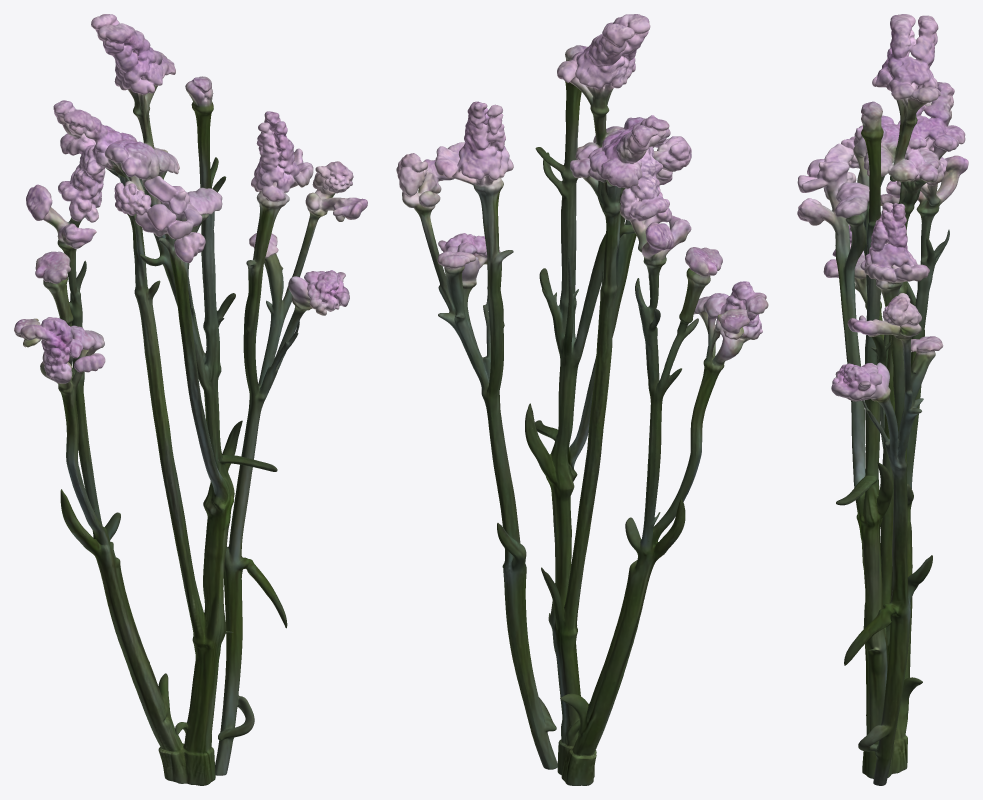
File: purple_pellers_pbr-v2.glb
3 views of the same model, side by side, from view 1: azimuth 30°, elevation 25°; view 2: azimuth 150°, elevation 25°; view 3: azimuth 270°, elevation 25° (orthographic). The views are drawn at different scales.
Visible parts, largest first — view 1: model; view 2: model; view 3: model.
Boxes of the visible parts, x1,y1,x2,y2 form: model: (14, 14, 367, 785); model: (396, 14, 768, 785); model: (797, 14, 968, 785).
Bounding box in the file's own units: 0.8972 × 1.9 × 0.4076.
1 material, 1 textured.
